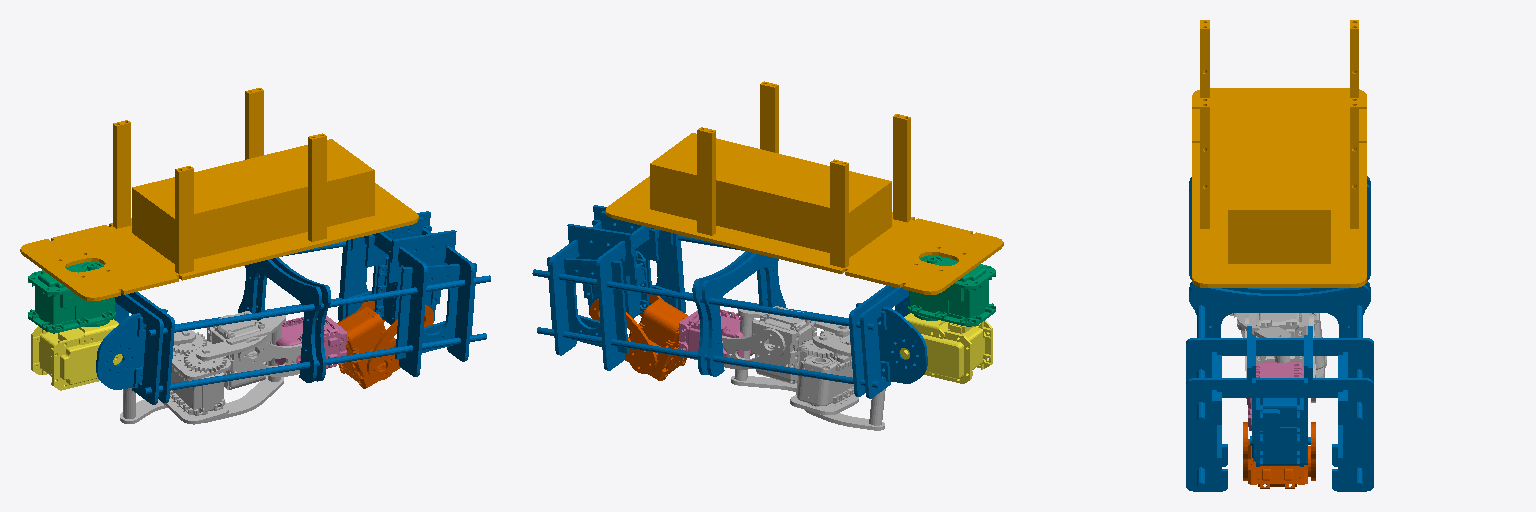
robot.urdf — final_backup19:
<robot
  name="final_backup19">
  <link
    name="manipulator_base_link">
    <inertial>
      <origin
        xyz="0.08963 -0.0446 0.39944"
        rpy="0 0 0" />
      <mass
        value="0.55058" />
      <inertia
        ixx="0.000415"
        ixy="0"
        ixz="0"
        iyy="0.002041"
        iyz="0"
        izz="0.00222" />
    </inertial>
    <visual>
      <origin
        xyz="0 0 0"
        rpy="0 0 0" />
      <geometry>
        <mesh
          filename="package://qfy_dynamixel_description/final_backup19/meshes/base_link.stl" />
      </geometry>
    </visual>
    <collision>
      <origin
        xyz="0 0 0"
        rpy="0 0 0" />
      <geometry>
        <mesh
          filename="package://qfy_dynamixel_description/final_backup19/meshes/base_link.stl" />
      </geometry>
    </collision>
  </link>

  <link name="world"/>

  <joint name="manipulator_base_joint" type="fixed">
      <origin
      xyz="0 0 1"
      rpy="0 0 0" />
      <parent link="world" />
      <child link="manipulator_base_link"  />
  </joint>

  <link
    name="link64">
    <inertial>
      <origin
        xyz="-0.015203 0 -0.031688"
        rpy="0 0 0" />
      <mass
        value="0.072402" />
      <inertia
        ixx="1.696071E-05"
        ixy="0"
        ixz="0"
        iyy="2.983622E-05"
        iyz="0"
        izz="2.490107E-05" />
    </inertial>
    <visual>
      <origin
        xyz="0 0 0"
        rpy="0 0 0" />
      <geometry>
        <mesh
          filename="package://qfy_dynamixel_description/final_backup19/meshes/link64.stl" />
      </geometry>
    </visual>
    <collision>
      <origin
        xyz="0 0 0"
        rpy="0 0 0" />
      <geometry>
        <mesh
          filename="package://qfy_dynamixel_description/final_backup19/meshes/link64.stl" />
      </geometry>
    </collision>
  </link>
  <joint
    name="joint1"
    type="fixed">
    <origin
      xyz="-0.045816 -0.0446 0.39074"
      rpy="0 0 0" />
    <parent
      link="manipulator_base_link" />
    <child
      link="link64" />
    <axis
      xyz="0 0 0" />
  </joint>
  <link
    name="link106">
    <inertial>
      <origin
        xyz="0.0008 -0.000446439663782217 0.000463562291337372"
        rpy="0 0 0" />
      <mass
        value="0.08920" />
      <inertia
        ixx="0.02"
        ixy="0"
        ixz="0"
        iyy="0.03"
        iyz="0"
        izz="0.04" />
    </inertial>
    <visual>
      <origin
        xyz="0 0 0"
        rpy="0 0 0" />
      <geometry>
        <mesh
          filename="package://qfy_dynamixel_description/final_backup19/meshes/link106.stl" />
      </geometry>
    </visual>
    <collision>
      <origin
        xyz="0 0 0"
        rpy="0 0 0" />
      <geometry>
        <mesh
          filename="package://qfy_dynamixel_description/final_backup19/meshes/link106.stl" />
      </geometry>
    </collision>
  </link>
  <joint
    name="joint2"
    type="continuous">
    <origin
      xyz="0 0 -0.07854"
      rpy="2.1994E-13 1.6974E-16 -3.1416" />
    <parent
      link="link64" />
    <child
      link="link106" />
    <axis
      xyz="0 0 1" />
    <dynamics damping="0.2"/>
  </joint>
  <link name="linkarm">
    <inertial>
      <origin
        xyz="-0.194877290967126 -0.00576787415600104 3.91414554237191E-05"
        rpy="0 0 0" />
      <mass
        value="0.206734058645563" />
      <inertia
        ixx="0.000385893343404741"
        ixy="0"
        ixz="0"
        iyy="0.00250221211288874"
        iyz="0"
        izz="0.00235494022023587" />
    </inertial>
    <visual>
      <origin
        xyz="0 0 0"
        rpy="0 0 0" />
      <geometry>
        <mesh
          filename="package://qfy_dynamixel_description/final_backup19/meshes/linkarm.stl" />
      </geometry>
    </visual>
    <collision>
      <origin
        xyz="0 0 0"
        rpy="0 0 0" />
      <geometry>
        <mesh
          filename="package://qfy_dynamixel_description/final_backup19/meshes/linkarm.stl" />
      </geometry>
    </collision>
  </link>

  <joint
    name="joint3"
    type="continuous">
    <origin
      xyz="-0.007 -0.00014931 -0.00018973"
      rpy="1.5708 -3.7204E-17 9.3147E-50" />
    <parent
      link="link106" />
    <child
      link="linkarm" />
    <axis
      xyz="0 0 1" />
    <dynamics damping="0.2"/>
  </joint>

  <link
    name="link4">
    <inertial>
      <origin
        xyz="0.0339143141029004 -0.0216059432586347 -0.000344012488018741"
        rpy="0 0 0" />
      <mass
        value="0.06" />
      <inertia
        ixx="0.002"
        ixy="0"
        ixz="0"
        iyy="0.002"
        iyz="0"
        izz="0.002" />
    </inertial>
    <visual>
      <origin
        xyz="0 0 0"
        rpy="0 0 0" />
      <geometry>
        <mesh
          filename="package://qfy_dynamixel_description/final_backup19/meshes/link4.stl" />
      </geometry>
    </visual>
    <collision>
      <origin
        xyz="0 0 0"
        rpy="0 0 0" />
      <geometry>
        <mesh
          filename="package://qfy_dynamixel_description/final_backup19/meshes/link4.stl" />
      </geometry>
    </collision>
  </link>
  <joint
    name="joint4"
    type="continuous">
    <origin
      xyz="-0.267847491938725 -0.0315200749343077 -0.000548111211937652"
      rpy="0 0 0" />
    <parent
      link="linkarm" />
    <child
      link="link4" />
    <axis
      xyz="0 0 1" />
    <dynamics damping="0.2"/>
  </joint>

  <link
    name="link5">
    <inertial>
      <origin
        xyz="-0.000494753845148299 5.33223484197598E-05 0.0474107095982823"
        rpy="0 0 0" />
      <mass
        value="0.0439498206735632" />
      <inertia
        ixx="0.01"
        ixy="0"
        ixz="0"
        iyy="0.01"
        iyz="0"
        izz="0.01" />
    </inertial>
    <visual>
      <origin
        xyz="0 0 0"
        rpy="0 0 0" />
      <geometry>
        <mesh
          filename="package://qfy_dynamixel_description/final_backup19/meshes/link5.stl" />
      </geometry>
    </visual>
    <collision>
      <origin
        xyz="0 0 0"
        rpy="0 0 0" />
      <geometry>
        <mesh
          filename="package://qfy_dynamixel_description/final_backup19/meshes/link5.stl" />
      </geometry>
    </collision>
  </link>
  <joint
    name="joint5"
    type="continuous">
    <origin
      xyz="0.0406502145919447 -0.00888469707381007 -0.00087119563541993"
      rpy="0 1.57 0" />
    <parent
      link="link4" />
    <child
      link="link5" />
    <axis
      xyz="0 0 1" />
    <dynamics damping="0.2"/>
  </joint>

  <link
    name="link6">
    <inertial>
      <origin
        xyz="0.0397412413926714 -0.0056532487086761 0.00041862620102906"
        rpy="0 0 0" />
      <mass
        value="0.0545769849151091" />
      <inertia
        ixx="0.01"
        ixy="0"
        ixz="0"
        iyy="0.01"
        iyz="0"
        izz="0.01" />
    </inertial>
    <visual>
      <origin
        xyz="0 0 0"
        rpy="0 0 0" />
      <geometry>
        <mesh
          filename="package://qfy_dynamixel_description/final_backup19/meshes/link6.stl" />
      </geometry>
      <material
        name="">
        <color
          rgba="0.752941176470588 0.752941176470588 0.752941176470588 1" />
      </material>
    </visual>
    <collision>
      <origin
        xyz="0 0 0"
        rpy="0 0 0" />
      <geometry>
        <mesh
          filename="package://qfy_dynamixel_description/final_backup19/meshes/link6.stl" />
      </geometry>
    </collision>
  </link>
  <joint
    name="joint6"
    type="continuous">
    <origin
      xyz="-0.00154477066088465 6.44767978570937E-05 0.0624900000000002"
      rpy="-1.57079632679487 -1.24154752371065 1.5290817885846" />
    <parent
      link="link5" />
    <child
      link="link6" />
    <axis
      xyz="0 0 1" />
    <dynamics damping="0.2"/>
  </joint>

  <link
    name="link7">
    <inertial>
      <origin
        xyz="-0.000532254194662851 -2.66087286423522E-05 0.0389086395586657"
        rpy="0 0 0" />
      <mass
        value="0.051229195859047" />
      <inertia
        ixx="0.01"
        ixy="0"
        ixz="0"
        iyy="0.01"
        iyz="0"
        izz="0.01" />
    </inertial>
    <visual>
      <origin
        xyz="0 0 0"
        rpy="0 0 0" />
      <geometry>
        <mesh
          filename="package://qfy_dynamixel_description/final_backup19/meshes/link7.stl" />
      </geometry>
      <material
        name="">
        <color
          rgba="0.752941176470588 0.752941176470588 0.752941176470588 1" />
      </material>
    </visual>
    <collision>
      <origin
        xyz="0 0 0"
        rpy="0 0 0" />
      <geometry>
        <mesh
          filename="package://qfy_dynamixel_description/final_backup19/meshes/link7.stl" />
      </geometry>
    </collision>
  </link>
  <joint
    name="joint7"
    type="continuous">
    <origin
      xyz="0.0367104165909178 -0.0195888514768517 0.000443884334384581"
      rpy="1.57079632680098 1.52835246371807 1.19442961140854" />
    <parent
      link="link6" />
    <child
      link="link7" />
    <axis
      xyz="0 0 1" />
    <dynamics damping="0.2"/>
  </joint>
  <link
    name="finger_right">
    <inertial>
      <origin
        xyz="-0.00748768832529589 -0.0278311213163985 0.00859866720335856"
        rpy="0 0 0" />
      <mass
        value="0.0120765085501768" />
      <inertia
        ixx="0.01"
        ixy="0"
        ixz="0"
        iyy="0.06"
        iyz="0"
        izz="0.06" />
    </inertial>
    <visual>
      <origin
        xyz="0 0 0"
        rpy="0 0 0" />
      <geometry>
        <mesh
          filename="package://qfy_dynamixel_description/final_backup19/meshes/finger_right.stl" />
      </geometry>
      <material
        name="">
        <color
          rgba="0.752941176470588 0.752941176470588 0.752941176470588 1" />
      </material>
    </visual>
    <collision>
      <origin
        xyz="0 0 0"
        rpy="0 0 0" />
      <geometry>
        <mesh
          filename="package://qfy_dynamixel_description/final_backup19/meshes/finger_right.stl" />
      </geometry>
    </collision>
  </link>
  <joint
    name="joint_finger_right"
    type="continuous">
    <origin
      xyz="-0.0144726964004629 0.00108585547271767 0.0399899999999939"
      rpy="-1.57079632679485 0.289349031429883 -0.1178208167784" />
    <parent
      link="link7" />
    <child
      link="finger_right" />
    <axis
      xyz="0 0 1" />
    <dynamics damping="0.2"/>
  </joint>
  <link
    name="finger_left">
    <inertial>
      <origin
        xyz="-0.00997288818590492 -0.0259107826806514 0.00776123843743221"
        rpy="0 0 0" />
      <mass
        value="0.012521326637182" />
      <inertia
        ixx="0.01"
        ixy="0"
        ixz="0"
        iyy="0.07"
        iyz="0"
        izz="0.06" />
    </inertial>
    <visual>
      <origin
        xyz="0 0 0"
        rpy="0 0 0" />
      <geometry>
        <mesh
          filename="package://qfy_dynamixel_description/final_backup19/meshes/finger_left.stl" />
      </geometry>
      <material
        name="">
        <color
          rgba="0.752941176470588 0.752941176470588 0.752941176470588 1" />
      </material>
    </visual>
    <collision>
      <origin
        xyz="0 0 0"
        rpy="0 0 0" />
      <geometry>
        <mesh
          filename="package://qfy_dynamixel_description/final_backup19/meshes/finger_left.stl" />
      </geometry>
    </collision>
  </link>
  <joint
    name="joint_finger_left"
    type="continuous">
    <origin
      xyz="0.0154850896724112 -0.00104013384777768 0.0399900000000045"
      rpy="-1.57079632679459 0.289349031429808 -0.117820816778367" />
    <parent
      link="link7" />
    <child
      link="finger_left" />
    <axis
      xyz="0 0 1" />
    <dynamics damping="0.2"/>
  </joint>

  <transmission name="tran2">
    <type>transmission_interface/SimpleTransmission</type>
    <joint name="joint2">
      <hardwareInterface>EffortJointInterface</hardwareInterface>
    </joint>
    <actuator name="motor2">
      <hardwareInterface>EffortJointInterface</hardwareInterface>
      <mechanicalReduction>1</mechanicalReduction>
    </actuator>
  </transmission>

  <transmission name="tran3">
    <type>transmission_interface/SimpleTransmission</type>
    <joint name="joint3">
      <hardwareInterface>EffortJointInterface</hardwareInterface>
    </joint>
    <actuator name="motor3">
      <hardwareInterface>EffortJointInterface</hardwareInterface>
      <mechanicalReduction>1</mechanicalReduction>
    </actuator>
  </transmission>

  <transmission name="tran4">
    <type>transmission_interface/SimpleTransmission</type>
    <joint name="joint4">
      <hardwareInterface>EffortJointInterface</hardwareInterface>
    </joint>
    <actuator name="motor4">
      <hardwareInterface>EffortJointInterface</hardwareInterface>
      <mechanicalReduction>1</mechanicalReduction>
    </actuator>
  </transmission>

  <transmission name="tran5">
    <type>transmission_interface/SimpleTransmission</type>
    <joint name="joint5">
      <hardwareInterface>EffortJointInterface</hardwareInterface>
    </joint>
    <actuator name="motor5">
      <hardwareInterface>EffortJointInterface</hardwareInterface>
      <mechanicalReduction>1</mechanicalReduction>
    </actuator>
  </transmission>

  <transmission name="tran6">
    <type>transmission_interface/SimpleTransmission</type>
    <joint name="joint6">
      <hardwareInterface>EffortJointInterface</hardwareInterface>
    </joint>
    <actuator name="motor6">
      <hardwareInterface>EffortJointInterface</hardwareInterface>
      <mechanicalReduction>1</mechanicalReduction>
    </actuator>
  </transmission>

  <transmission name="tran7">
    <type>transmission_interface/SimpleTransmission</type>
    <joint name="joint7">
      <hardwareInterface>EffortJointInterface</hardwareInterface>
    </joint>
    <actuator name="motor7">
      <hardwareInterface>EffortJointInterface</hardwareInterface>
      <mechanicalReduction>1</mechanicalReduction>
    </actuator>
  </transmission>

  <transmission name="tran8">
    <type>transmission_interface/SimpleTransmission</type>
    <joint name="joint_finger_right">
      <hardwareInterface>EffortJointInterface</hardwareInterface>
    </joint>
    <actuator name="motor8">
      <hardwareInterface>EffortJointInterface</hardwareInterface>
      <mechanicalReduction>1</mechanicalReduction>
    </actuator>
  </transmission>

  <transmission name="tran9">
    <type>transmission_interface/SimpleTransmission</type>
    <joint name="joint_finger_left">
      <hardwareInterface>EffortJointInterface</hardwareInterface>
    </joint>
    <actuator name="motor9">
      <hardwareInterface>EffortJointInterface</hardwareInterface>
      <mechanicalReduction>1</mechanicalReduction>
    </actuator>
  </transmission>

  <gazebo>
    <plugin name="gazebo_ros_control" filename="libgazebo_ros_control.so">
      <robotNamespace>/final_backup19</robotNamespace>
      <robotSimType>gazebo_ros_control/DefaultRobotHWSim</robotSimType>
    </plugin>
  </gazebo>

<!--
  <gazebo reference="finger_right">
    <material>Gazebo/Black</material>
  </gazebo>
-->

</robot>

--- Render facts (derived) ---
3 views of the same robot in one strip: view 1: azimuth 30°, elevation 25°; view 2: azimuth 150°, elevation 25°; view 3: azimuth 270°, elevation 25° (orthographic).
Model final_backup19 with 11 links and 10 joints (8 continuous, 2 fixed), rooted at world, posed every joint at zero.
Visible links, largest first — view 1: manipulator_base_link, linkarm, link106, link64, link4, link6, finger_left, link7, link5, finger_right; view 2: manipulator_base_link, linkarm, link106, link6, link64, link4, link7, finger_right, finger_left, link5; view 3: manipulator_base_link, linkarm, link4, link6, link5, finger_left.
Link boxes in pixels (x1,y1,x2,y2): manipulator_base_link: (20,88,418,301); linkarm: (96,211,490,404); link106: (31,319,122,390); link64: (28,261,115,333); link4: (337,301,433,388); link6: (207,311,301,389); finger_left: (184,315,285,422); link7: (162,341,230,424); link5: (275,315,346,368); finger_right: (120,330,206,423); manipulator_base_link: (605,81,1003,294); linkarm: (532,205,927,398); link106: (900,313,992,383); link6: (722,306,817,383); link64: (908,255,995,326); link4: (590,294,687,380); link7: (790,345,858,414); finger_right: (801,335,885,430); finger_left: (731,309,850,403); link5: (678,309,754,359); manipulator_base_link: (1192,20,1366,287); linkarm: (1186,176,1373,491); link4: (1243,422,1315,488); link6: (1245,313,1315,402); link5: (1247,361,1303,430); finger_left: (1230,313,1291,362).
Bounding box of the posed robot: 0.3686 × 0.12 × 0.2386 m (x, y, z).
Meshes: 10 distinct files referenced, 10 mesh visuals loaded (10 binary STL).